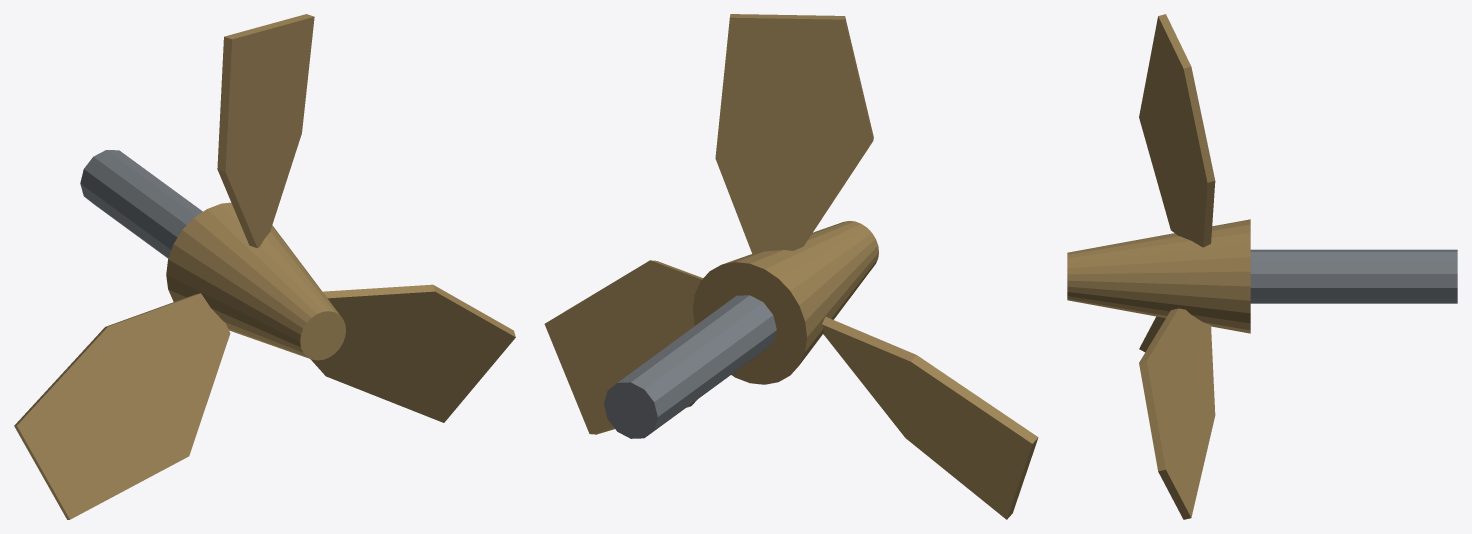
3 views of the same model, side by side, from view 1: azimuth 30°, elevation 25°; view 2: azimuth 150°, elevation 25°; view 3: azimuth 270°, elevation 25° (orthographic). The views are drawn at different scales.
Visible parts, largest first — view 1: component.spin.mesh, component.root.mesh; view 2: component.spin.mesh, component.root.mesh; view 3: component.spin.mesh, component.root.mesh.
Part boxes in pixels (x1=…): component.spin.mesh: x1=14, y1=14, x2=515, y2=519; component.root.mesh: x1=80, y1=150, x2=202, y2=258; component.spin.mesh: x1=544, y1=14, x2=1038, y2=519; component.root.mesh: x1=604, y1=295, x2=776, y2=438; component.spin.mesh: x1=1067, y1=14, x2=1250, y2=519; component.root.mesh: x1=1250, y1=249, x2=1457, y2=303.
Bounding box in the file's own units: 3.18 × 2.8 × 2.45.
